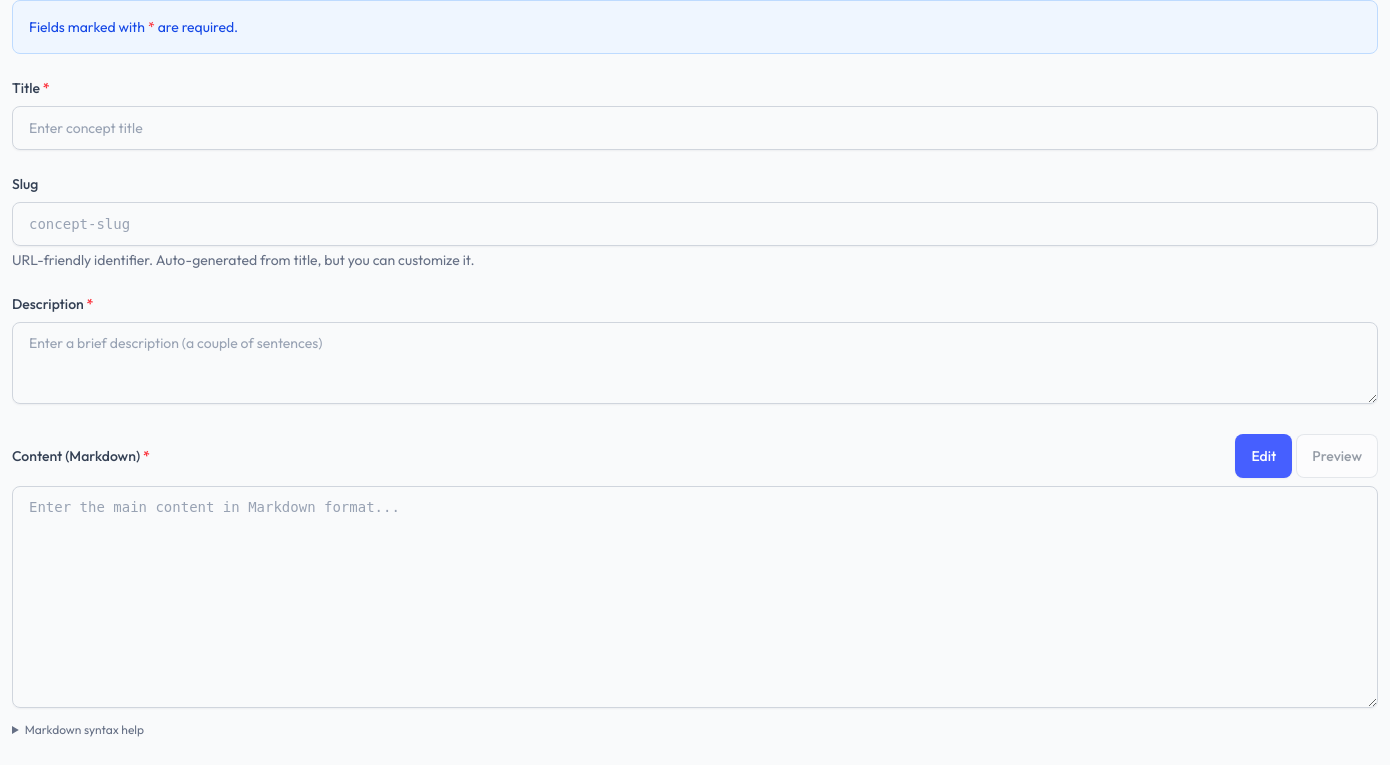
Test: ConceptForm › auto-generates slug from title in create mode
# Type a title
Type "Introduction to Programming" into the field labelled "Title *".
click(695, 128); type("Introduction to Programming")  # box [12,106,1378,150]
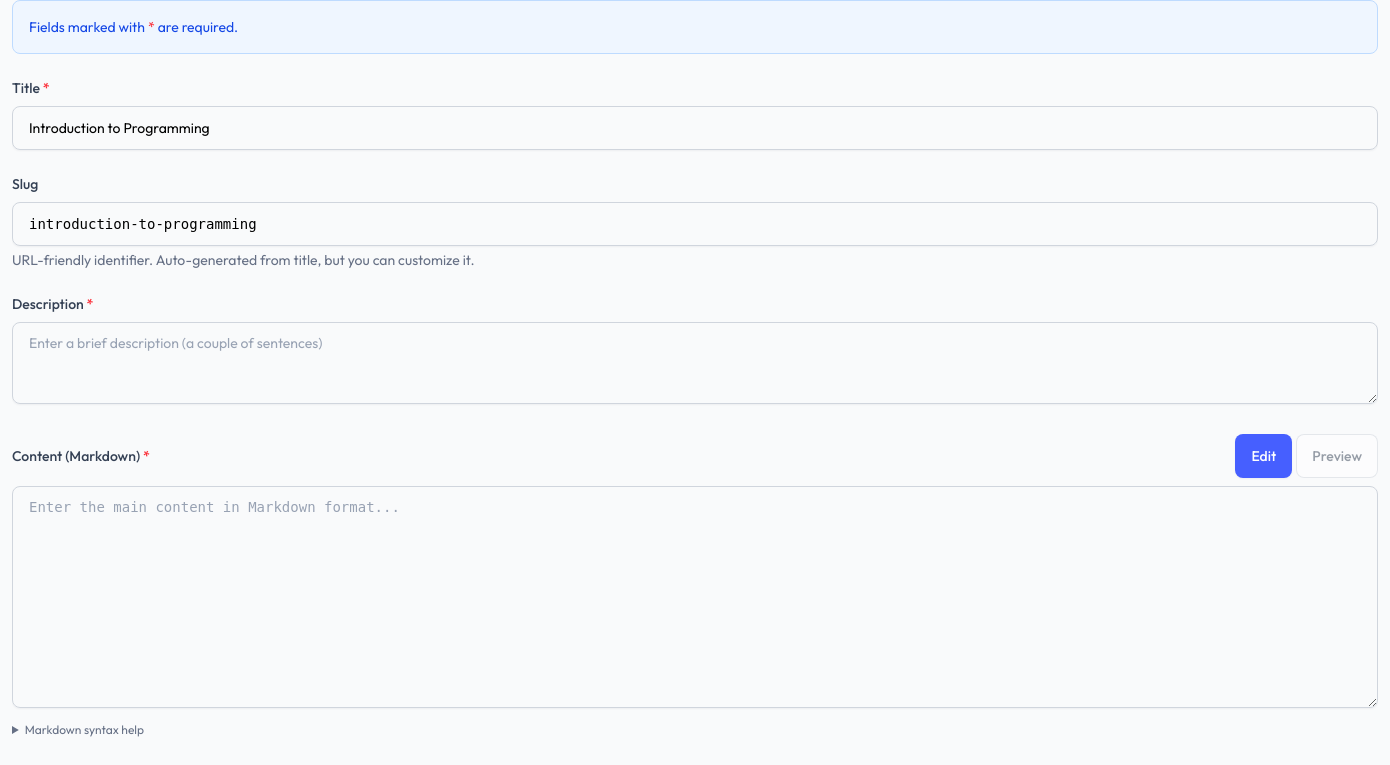
Result: the field labelled "Slug" holds "introduction-to-programming" at [12,202,1378,246]
